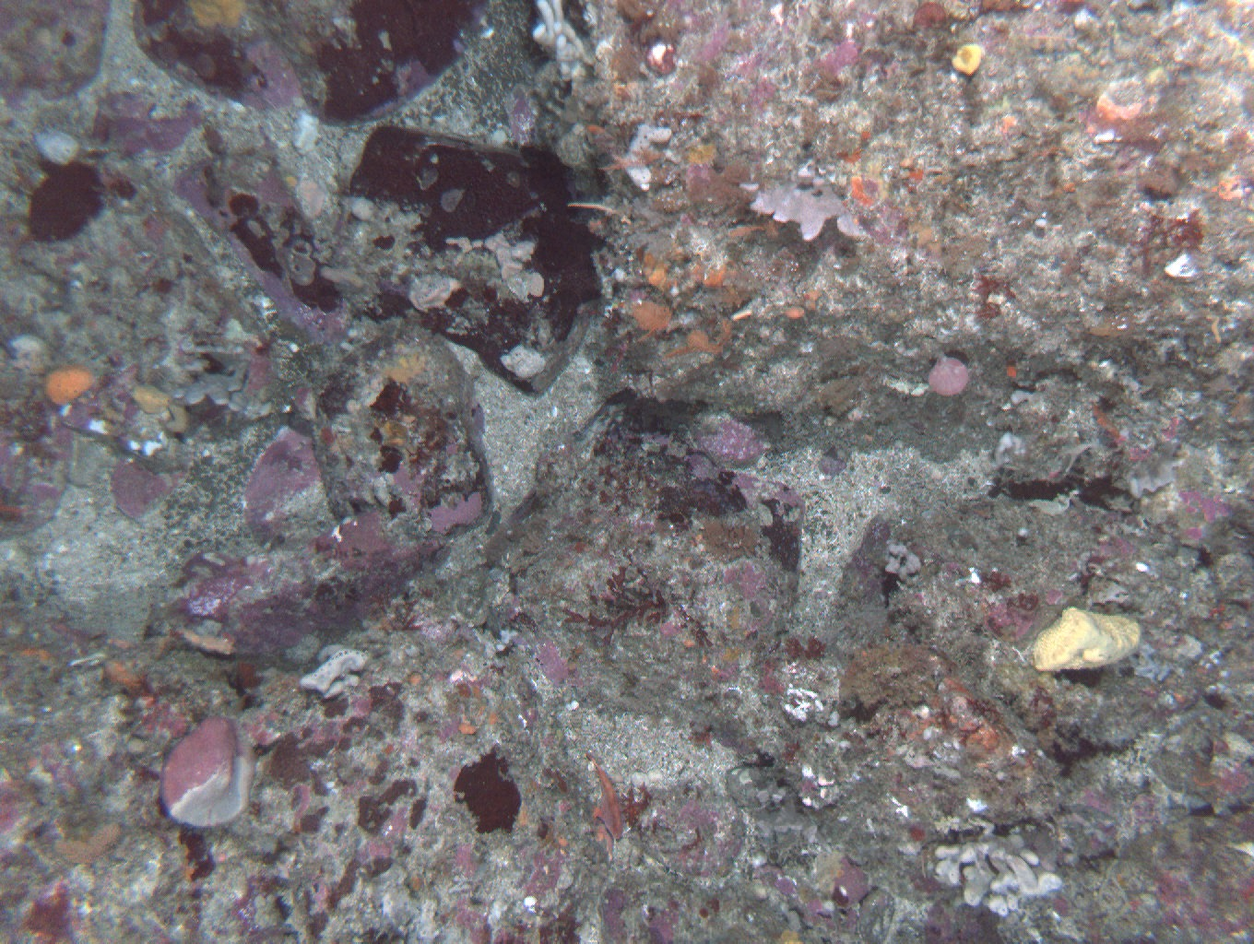Brachionichthyidae: (581, 749, 634, 843)
